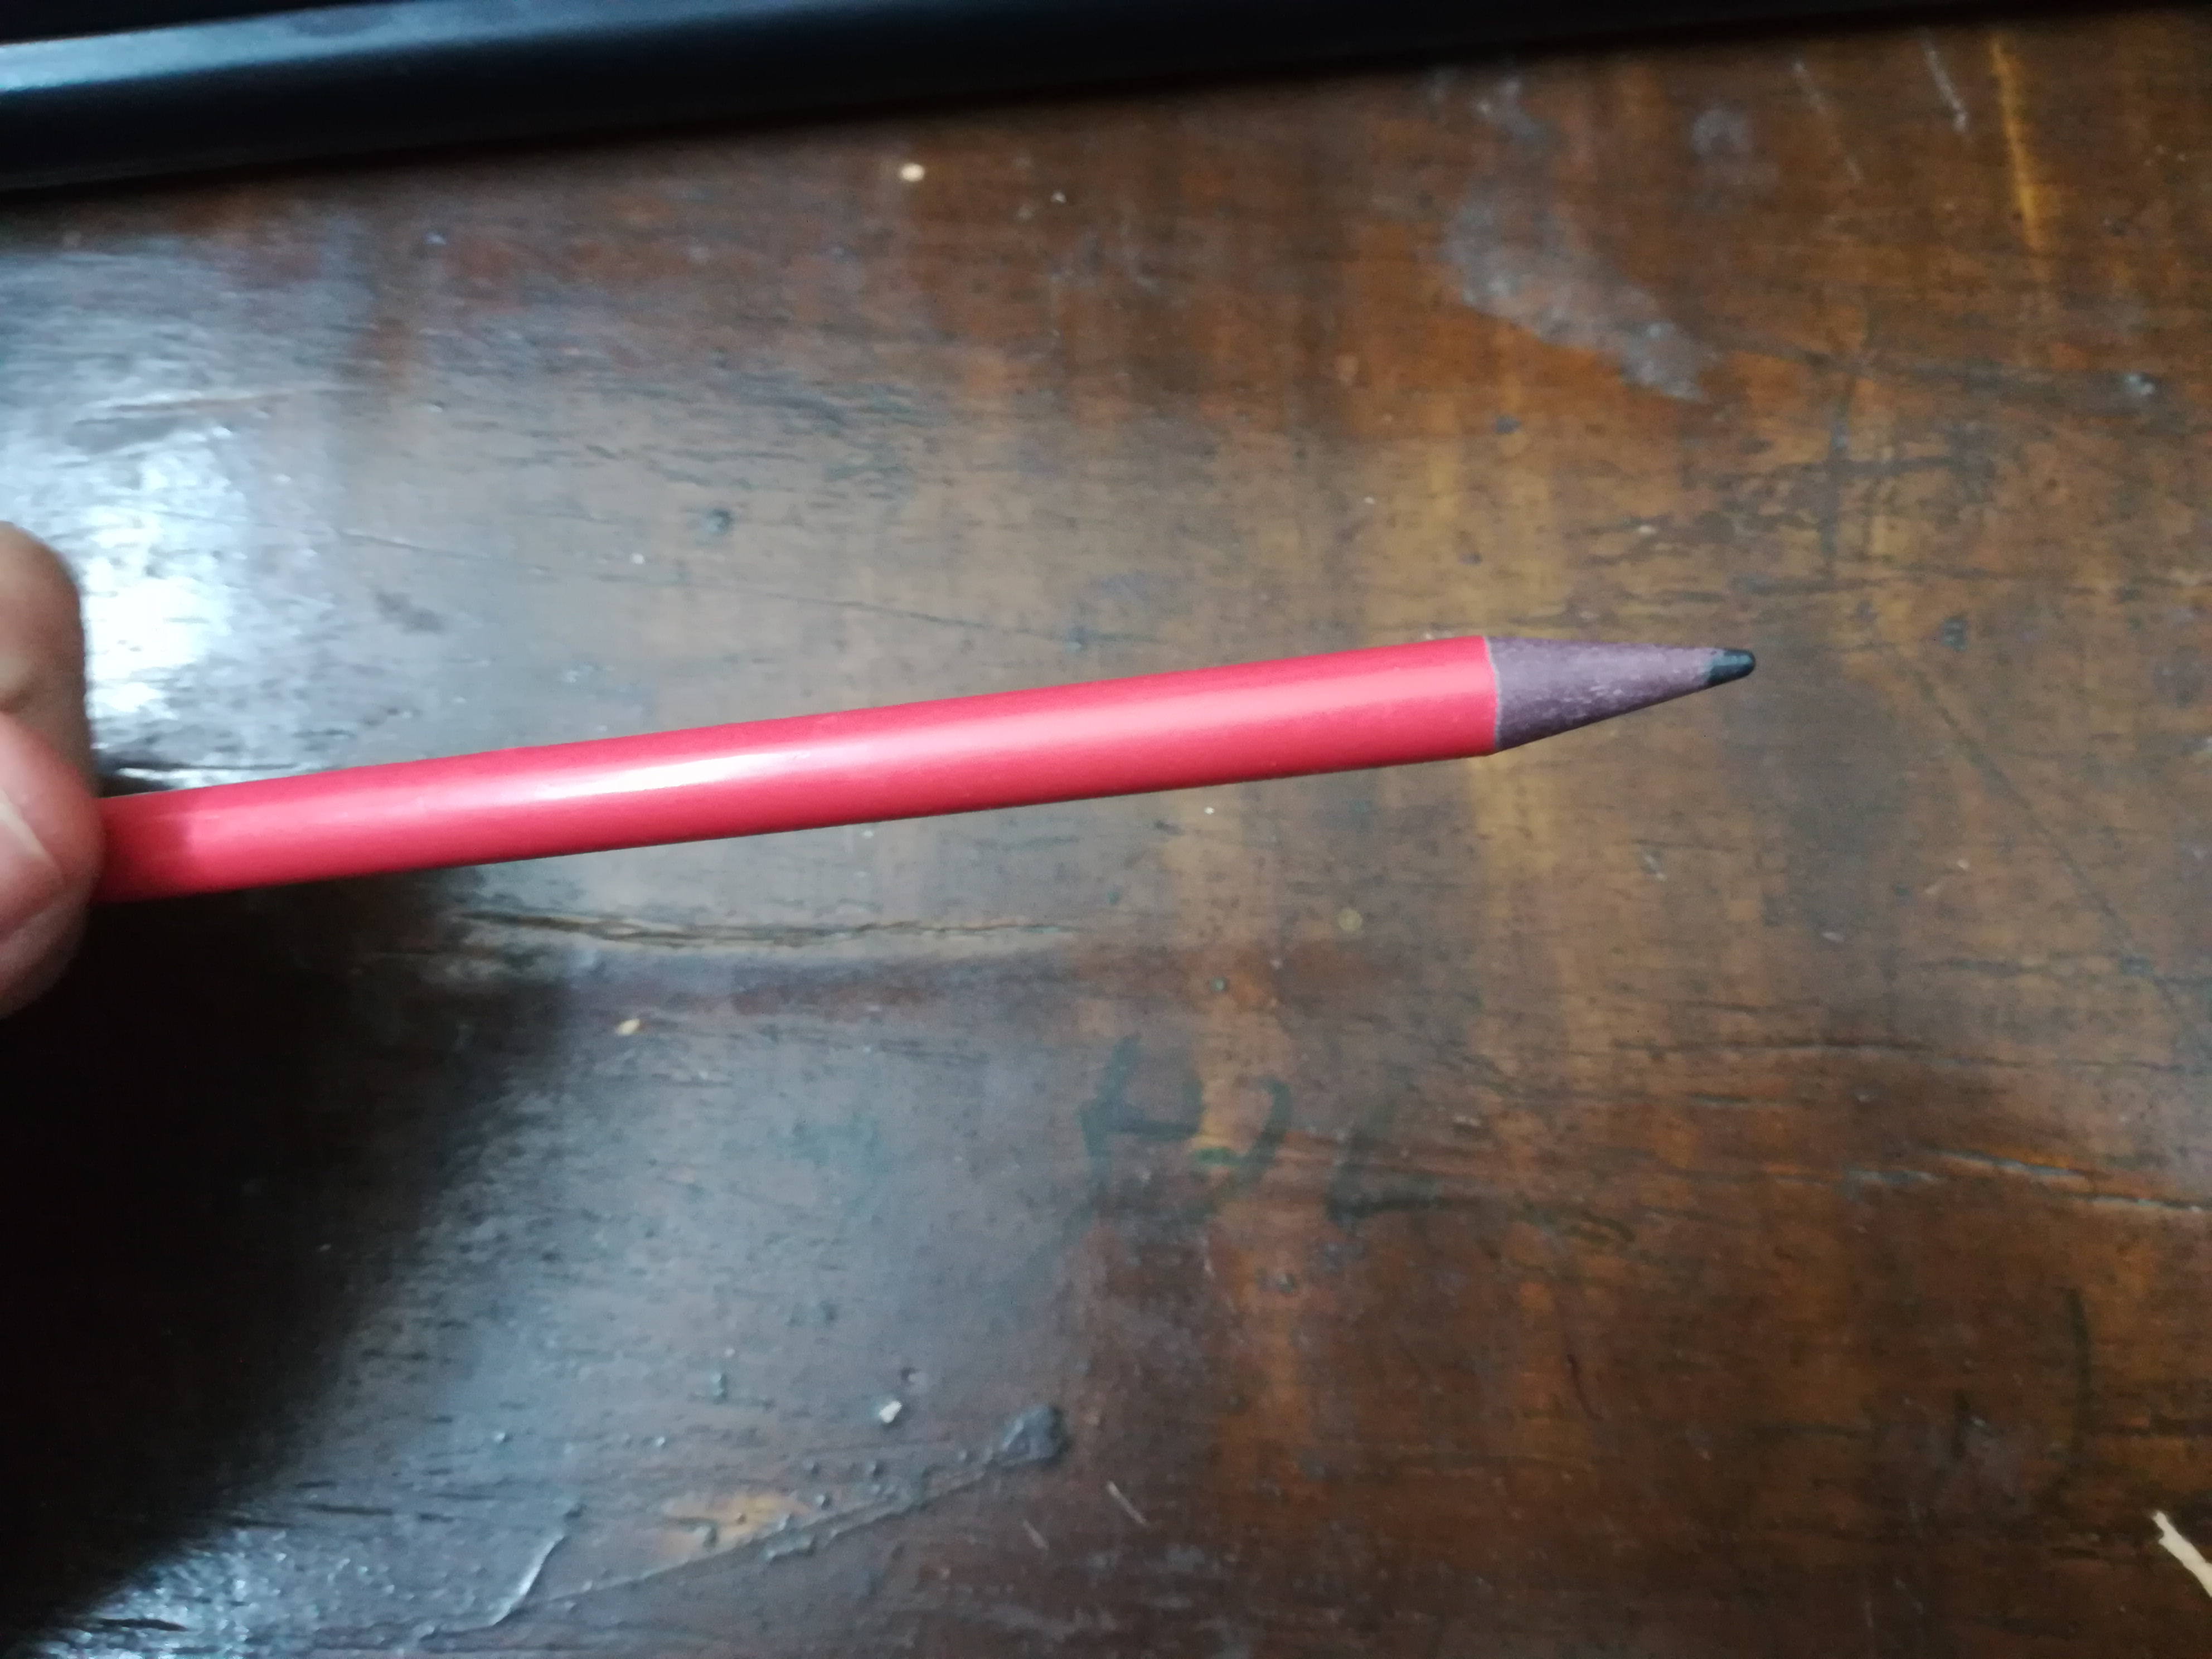pen_tip: (1400, 540, 1820, 838)
